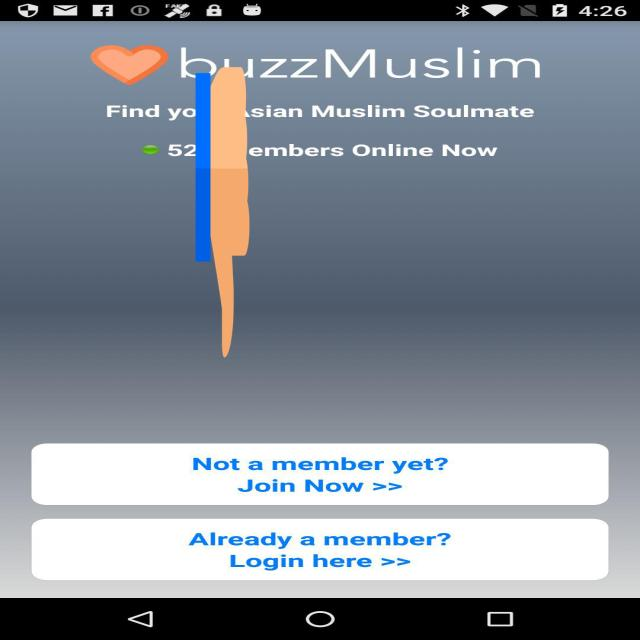obstruction: (196, 60, 250, 365)
